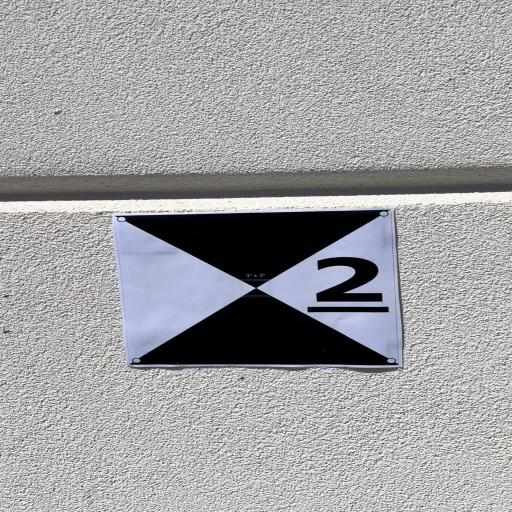target2: (111, 209, 405, 368)
